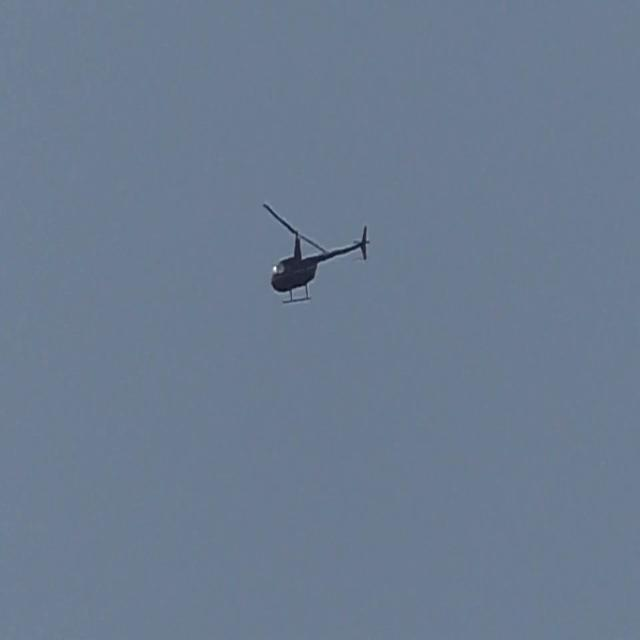CIV_HELO: (270, 223, 370, 304)
